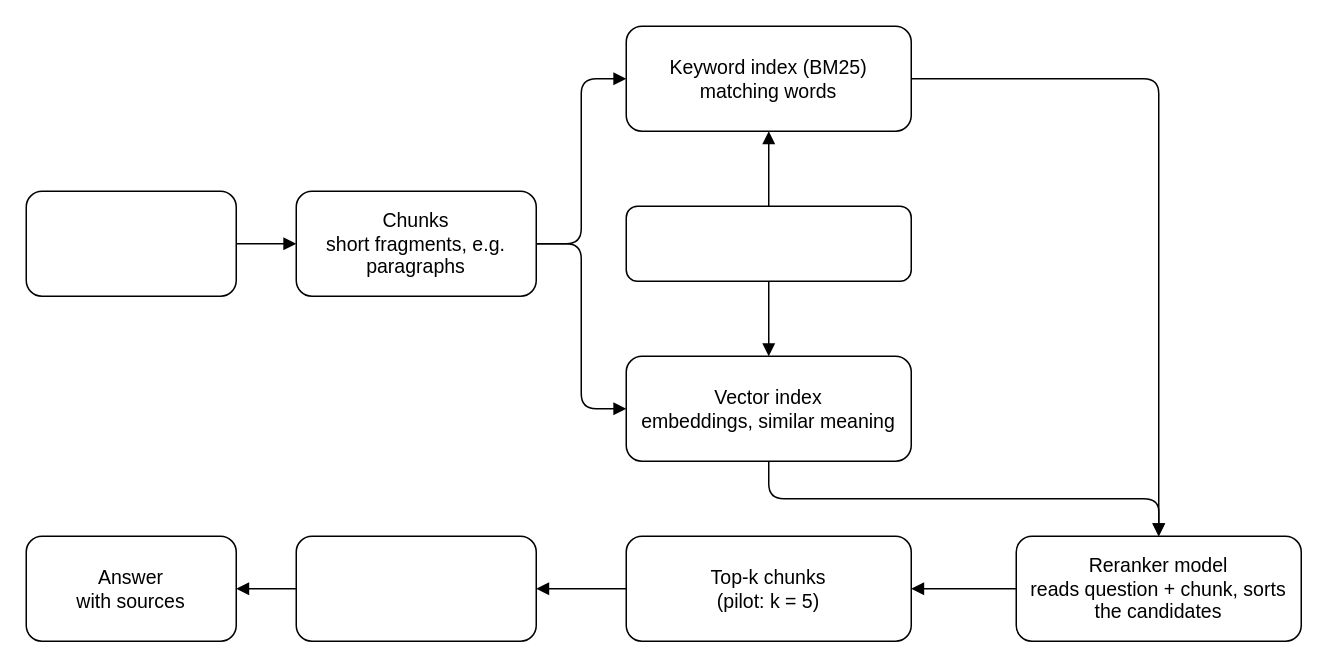
The diagram is 1328 pixels wide and 668 high, and some of its shapes have lost their labels. Each missing label, with the centre of its shape:
"Documents" belongs at (x=130, y=243).
"Language model reads question + chunks" belongs at (x=415, y=588).
"Question" belongs at (x=768, y=243).
